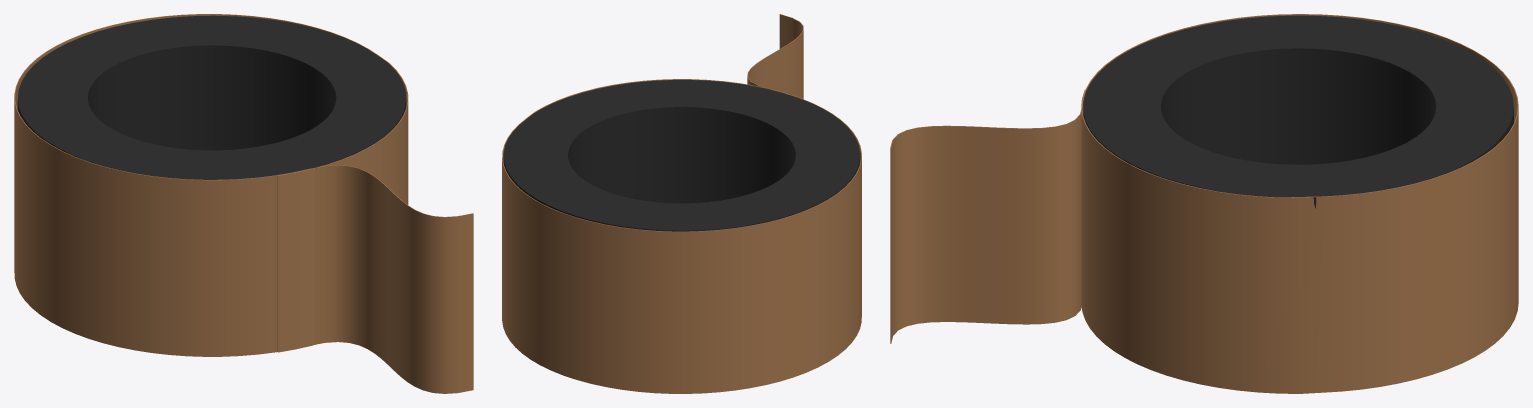
File: TapeHigh.fbx
The picture shows the model from 3 angles, left to right: view 1: azimuth 30°, elevation 25°; view 2: azimuth 150°, elevation 25°; view 3: azimuth 270°, elevation 25°; orthographic projection. The views are drawn at different scales.
Visible parts, largest first — view 1: Circle001, Tube004; view 2: Circle001, Tube004; view 3: Circle001, Tube004.
Part boxes in pixels (x1,y1,x2,y2): Circle001: (14, 14, 473, 393); Tube004: (17, 15, 406, 179); Circle001: (502, 14, 861, 393); Tube004: (503, 80, 860, 231); Circle001: (890, 14, 1518, 393); Tube004: (1083, 15, 1513, 208).
Bounding box in the file's own units: 32.42 × 16.12 × 46.82.
